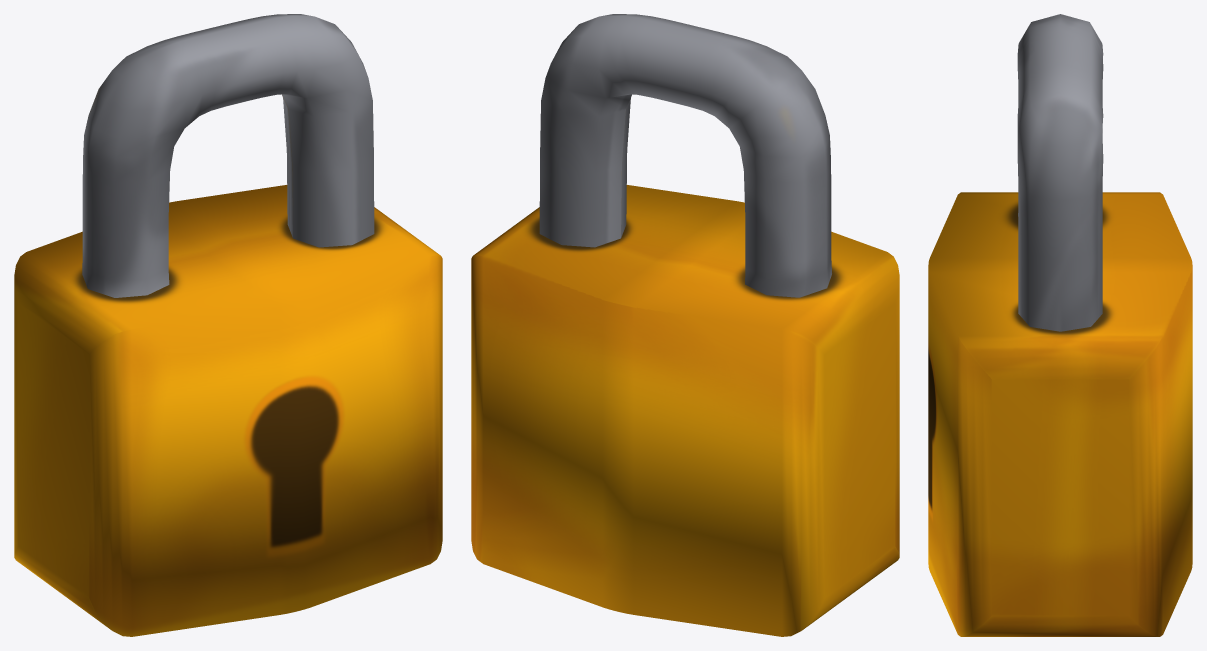
Rendered from Cadenas.fbx.
3 renders of one model, left to right at view 1: azimuth 30°, elevation 25°; view 2: azimuth 150°, elevation 25°; view 3: azimuth 270°, elevation 25°, orthographic. The views are drawn at different scales.
Parts seen in each view (by area): view 1: Boite, Verrou; view 2: Boite, Verrou; view 3: Boite, Verrou.
Boxes of the visible parts, x1,y1,x2,y2 form: Boite: (14, 185, 442, 636); Verrou: (82, 14, 374, 297); Boite: (471, 185, 899, 636); Verrou: (539, 14, 831, 297); Boite: (928, 192, 1192, 636); Verrou: (1017, 14, 1103, 331).
Size of the model in its own units: 2.38 by 3.46 by 1.6.
1 material, 1 textured.
